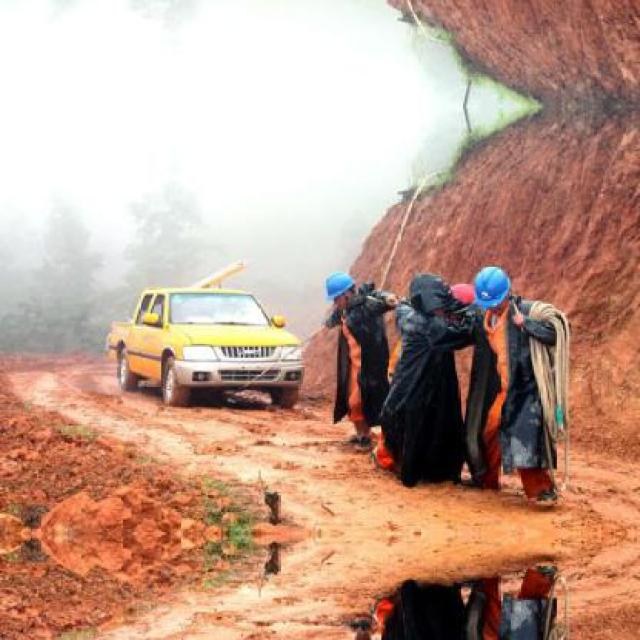helmet: (472, 262, 510, 310), (322, 268, 356, 310)
